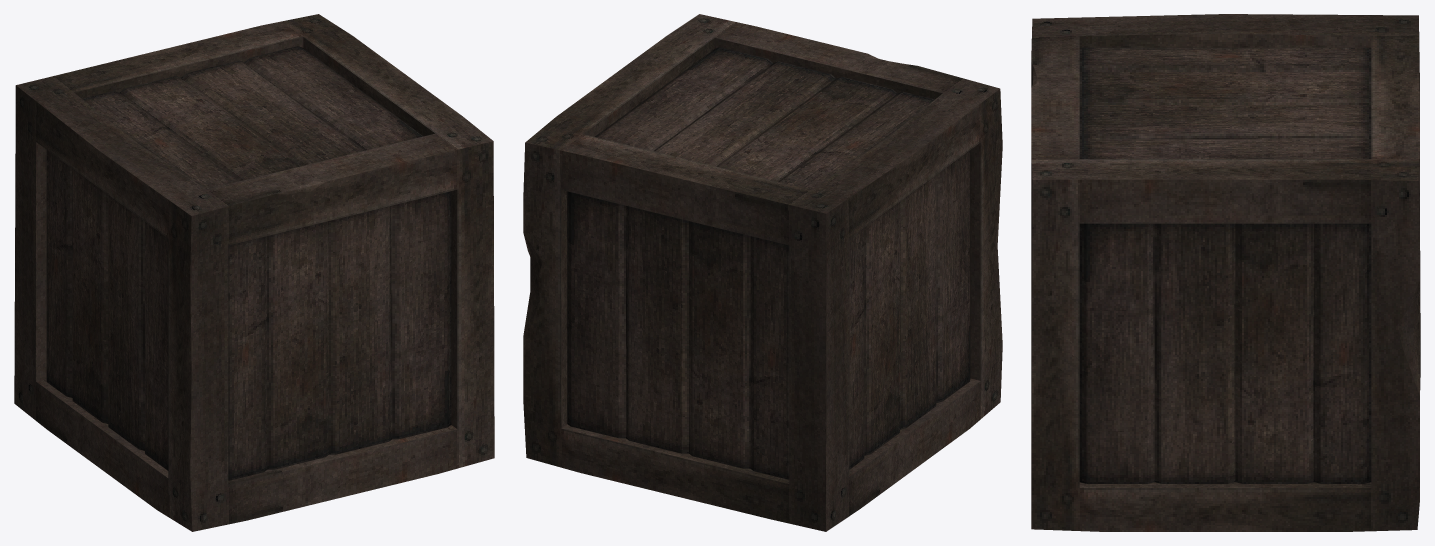
The model's file is wooden_crate_2.glb.
3 views of the same model, side by side, from view 1: azimuth 30°, elevation 25°; view 2: azimuth 150°, elevation 25°; view 3: azimuth 270°, elevation 25° (orthographic). The views are drawn at different scales.
Visible parts, largest first — view 1: wooden_crate_2; view 2: wooden_crate_2; view 3: wooden_crate_2.
Boxes of the visible parts, x1,y1,x2,y2 form: wooden_crate_2: (14, 14, 494, 531); wooden_crate_2: (523, 14, 1002, 531); wooden_crate_2: (1031, 14, 1420, 531).
Size of the model in its own units: 1.09 by 1.08 by 1.08.
Materials: 1 (1 with a texture image).
